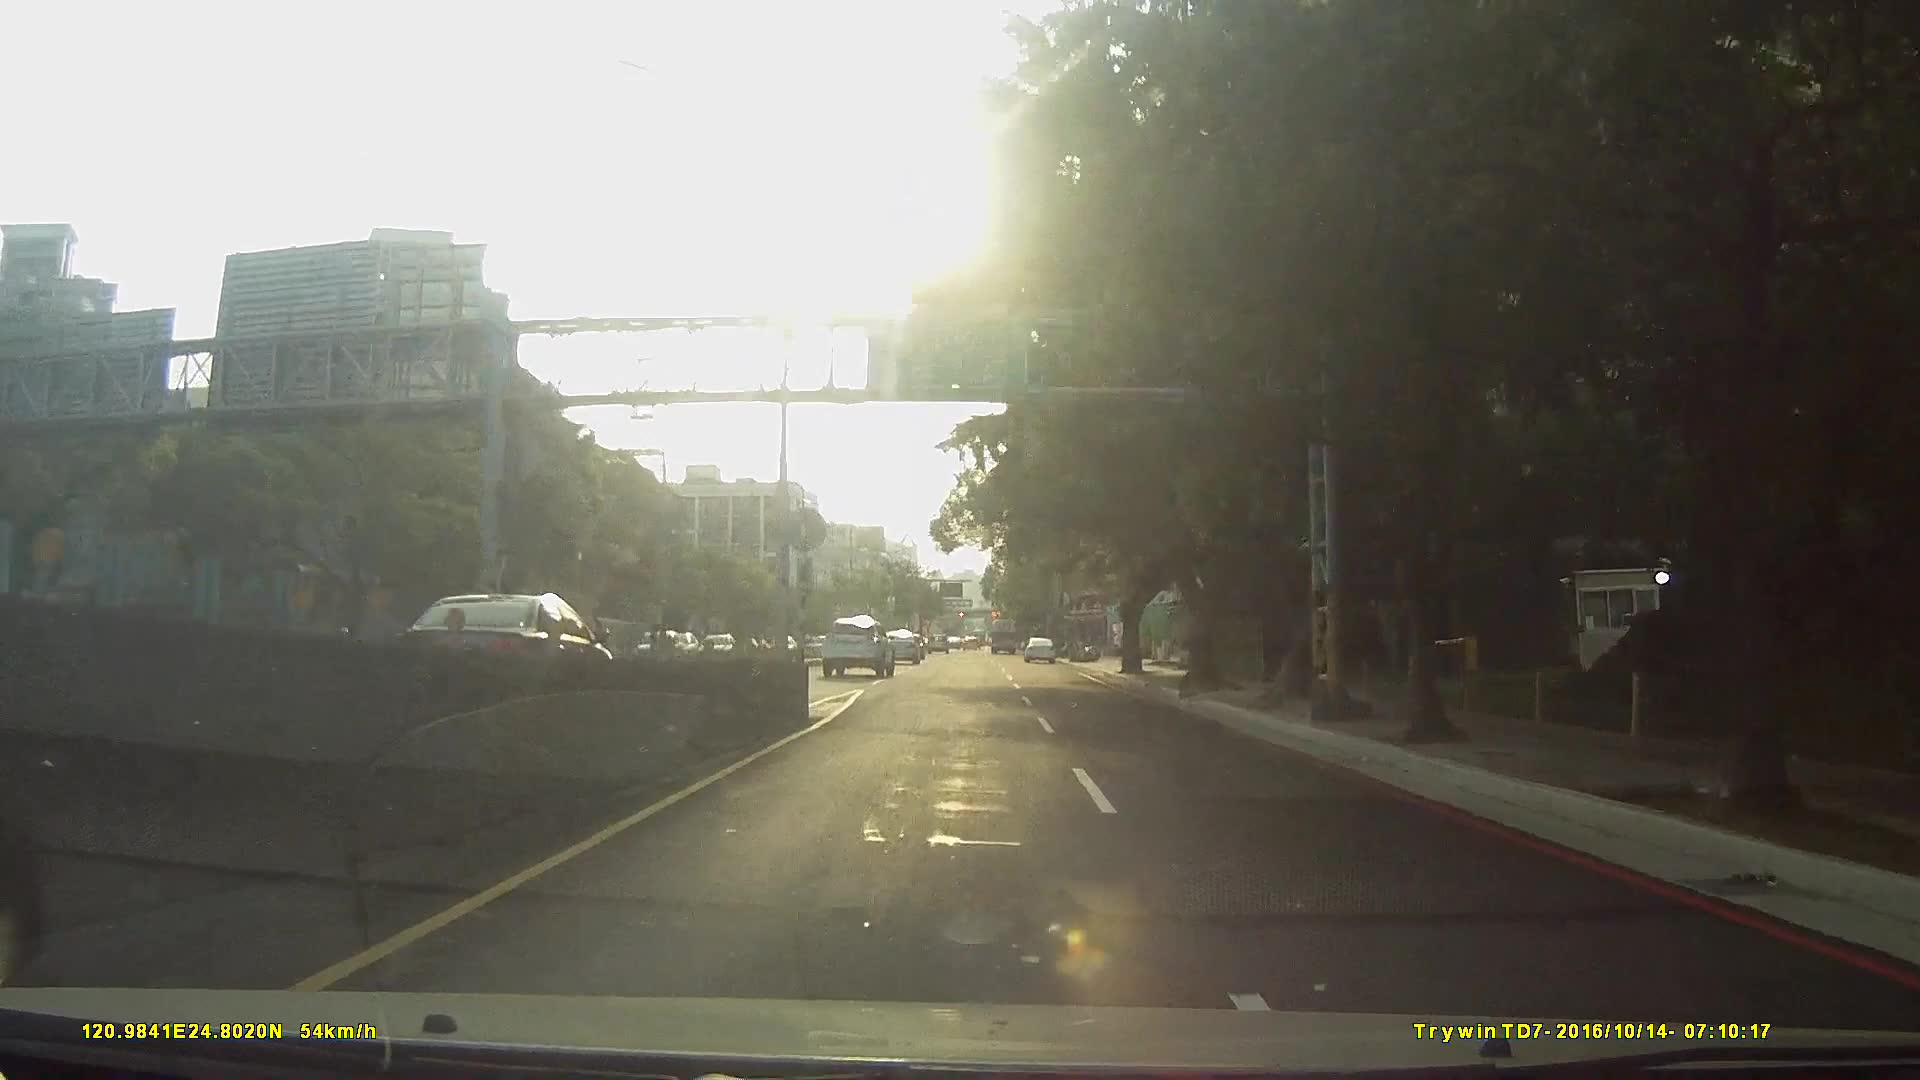vehicle: (822, 615, 894, 676), (878, 626, 922, 662), (986, 613, 1018, 651), (1021, 636, 1056, 663)
